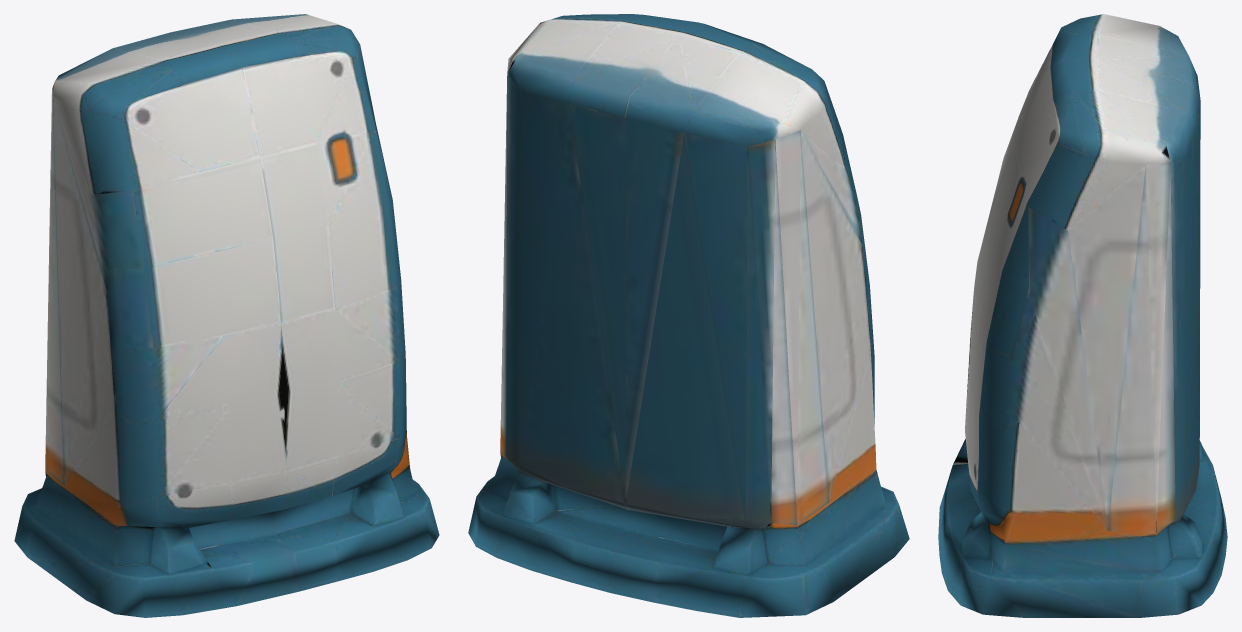
File: rocket_panel-lod0.fd450cef0957.glb
3 renders of one model, left to right at view 1: azimuth 30°, elevation 25°; view 2: azimuth 150°, elevation 25°; view 3: azimuth 270°, elevation 25°, orthographic. The views are drawn at different scales.
Parts seen in each view (by area): view 1: geometry_0; view 2: geometry_0; view 3: geometry_0.
Boxes of the visible parts, <box> form: geometry_0: <box>14,14,439,617</box>; geometry_0: <box>468,14,909,617</box>; geometry_0: <box>938,14,1227,617</box>.
Size of the model in its own units: 0.6899 by 0.9502 by 0.522.
1 material, 1 textured.
